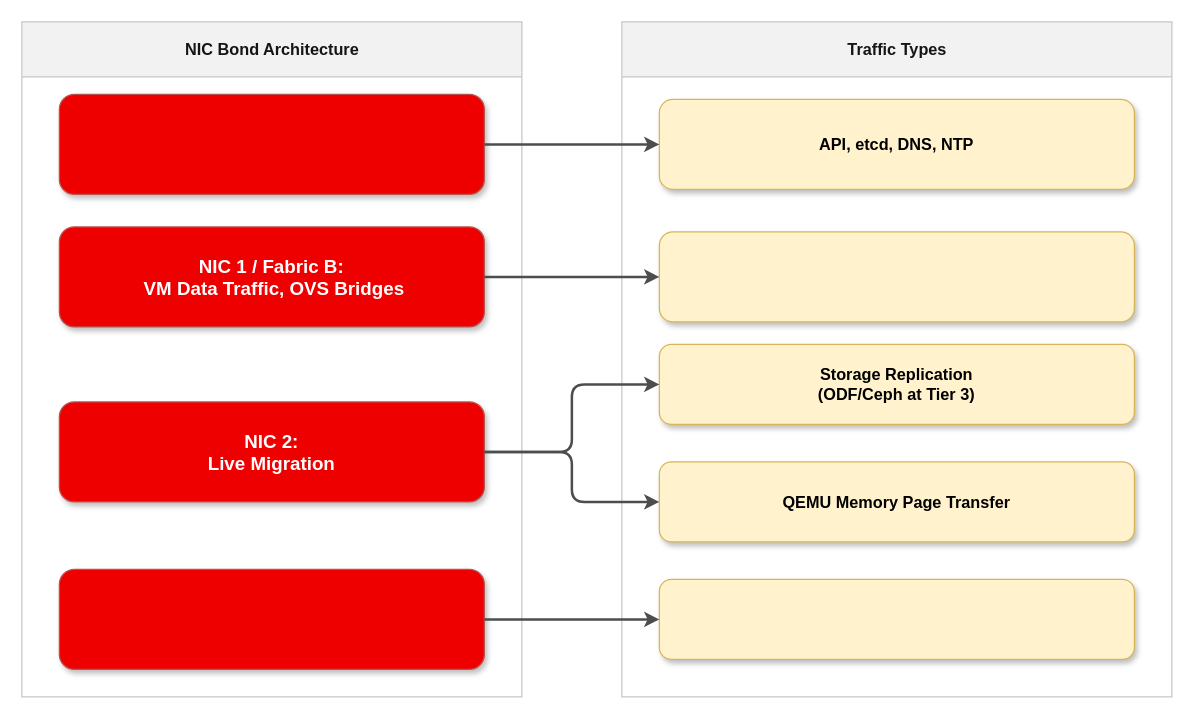
The diagram is 1194 pixels wide and 719 high, and some of its shapes have lost their labels. Here are the shapes that lost their labels. From the top down, the centre of each, then its label:
At pixel 272 145: "NIC 0 / Fabric A: OCP Management + OVN-Kubernetes".
At pixel 897 278: "VM Tenant VLANs via NADs".
At pixel 272 620: "NIC 3: Backup".
At pixel 897 620: "Backup Agent Traffic".
